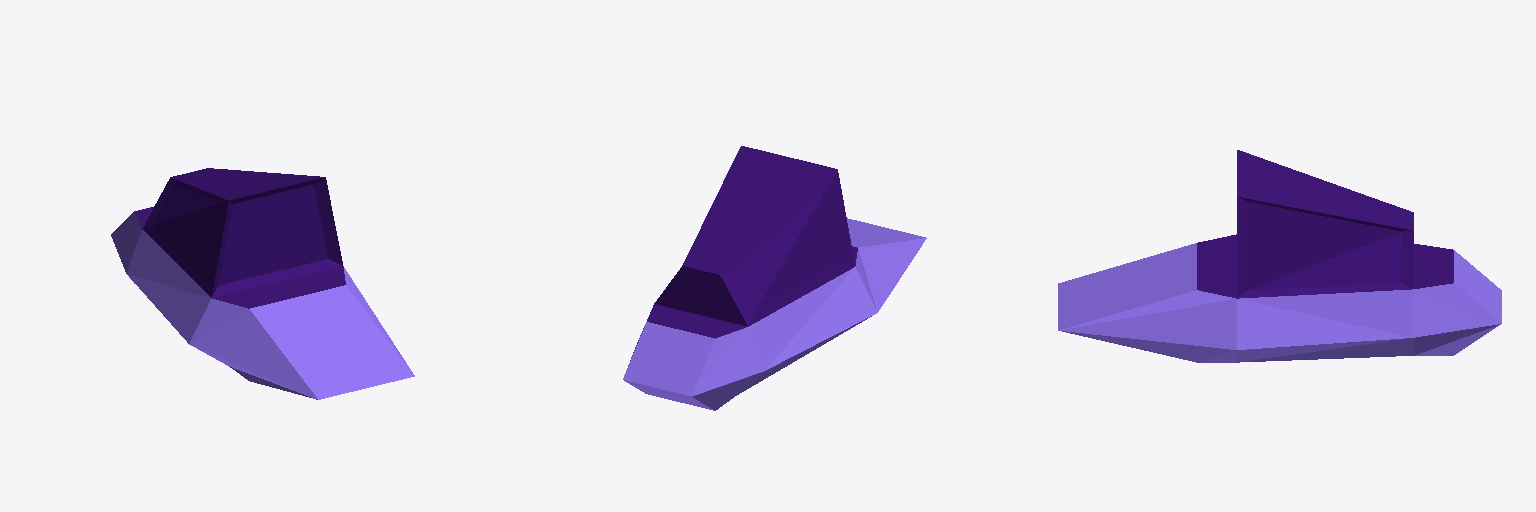
The model's file is Car.obj.
3 renders of one model, left to right at view 1: azimuth 30°, elevation 25°; view 2: azimuth 150°, elevation 25°; view 3: azimuth 270°, elevation 25°, orthographic.
Visible parts, largest first — view 1: pCube1; view 2: pCube1; view 3: pCube1.
Part boxes in pixels (x1,y1,x2,y2): pCube1: (111, 168, 414, 399); pCube1: (623, 146, 926, 410); pCube1: (1058, 150, 1501, 362).
Size of the model in its own units: 19.8 by 17.77 by 43.03.